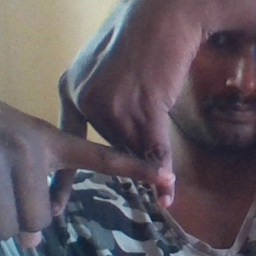H: (37, 73, 184, 213)
